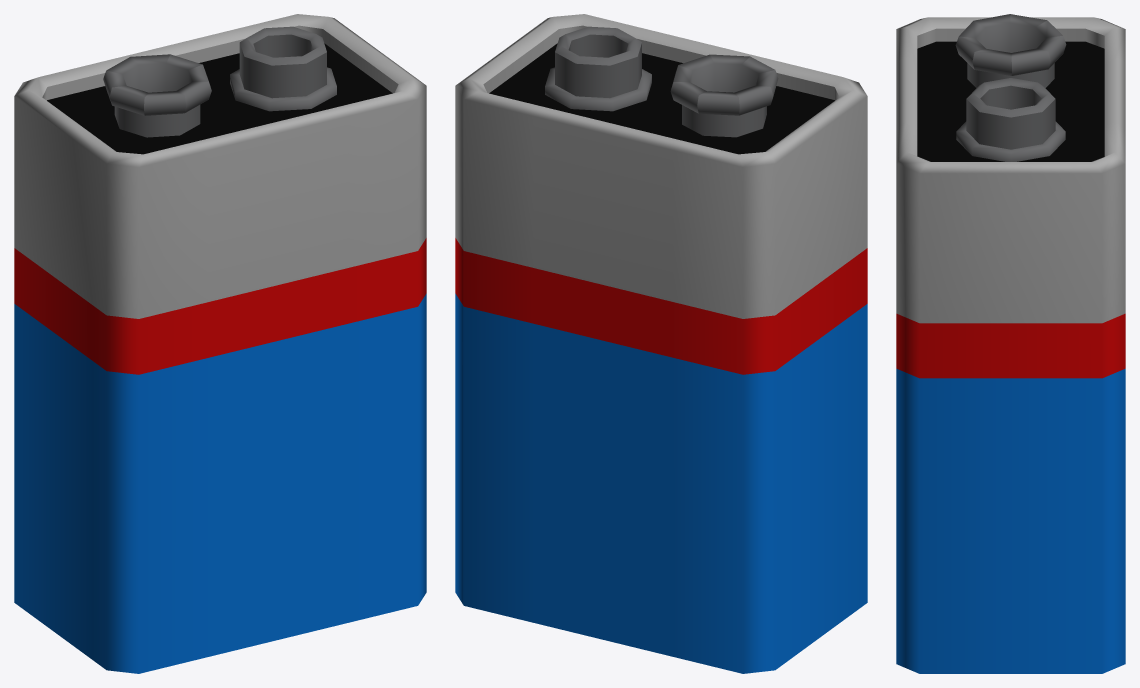
The model's file is Battery (1).fbx.
The picture shows the model from 3 angles, left to right: view 1: azimuth 30°, elevation 25°; view 2: azimuth 150°, elevation 25°; view 3: azimuth 270°, elevation 25°; orthographic projection.
Parts seen in each view (by area): view 1: Battery; view 2: Battery; view 3: Battery.
Part boxes in pixels (bbox=[...]): Battery: bbox=[14, 14, 426, 673]; Battery: bbox=[455, 14, 867, 673]; Battery: bbox=[896, 14, 1125, 673].
Bounding box in the file's own units: 0.9172 × 1.48 × 0.5757.
